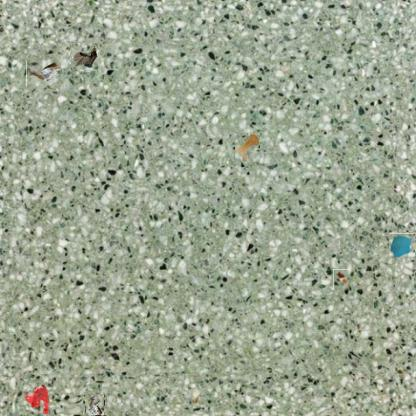dirty: (26, 61, 61, 87), (70, 43, 98, 71), (390, 233, 415, 258), (83, 394, 106, 416), (333, 269, 350, 290)
liquid: (24, 385, 50, 415), (235, 132, 260, 162)
